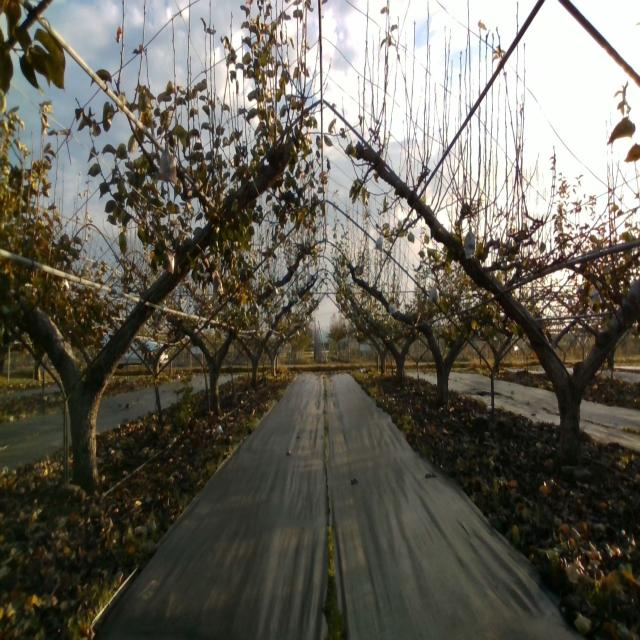pearbags: (157, 140, 178, 186), (464, 226, 476, 259), (428, 283, 440, 305)
